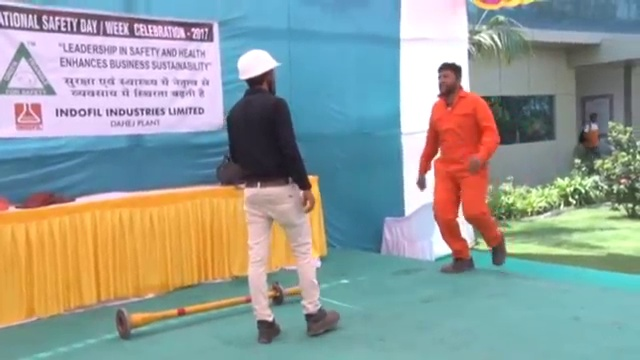helmet: (234, 48, 283, 81)
helmet_off: (435, 61, 465, 98)
helmet_on: (234, 48, 285, 96)
person: (221, 47, 338, 338), (417, 60, 508, 272), (579, 113, 605, 157)
